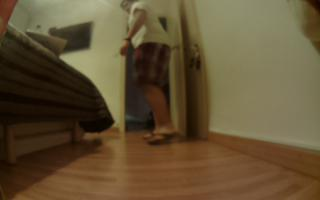person: (112, 1, 182, 145)
